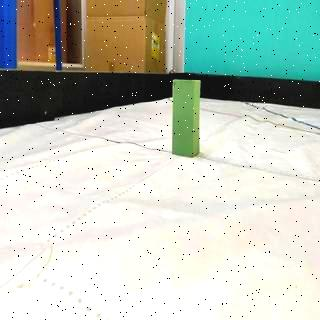greenbox: (172, 78, 202, 156)
